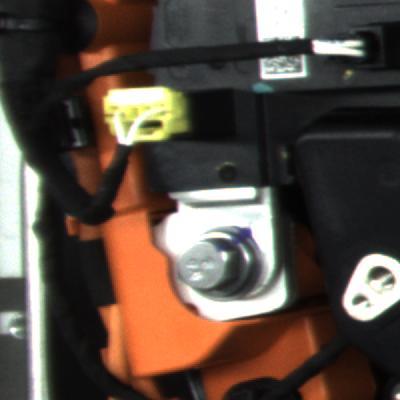nut_b: (168, 212, 270, 309)
